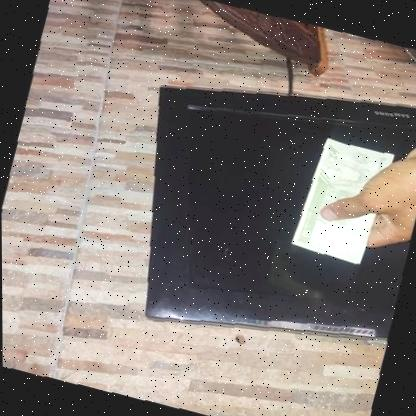fifty-back-vef: (288, 134, 394, 266)
